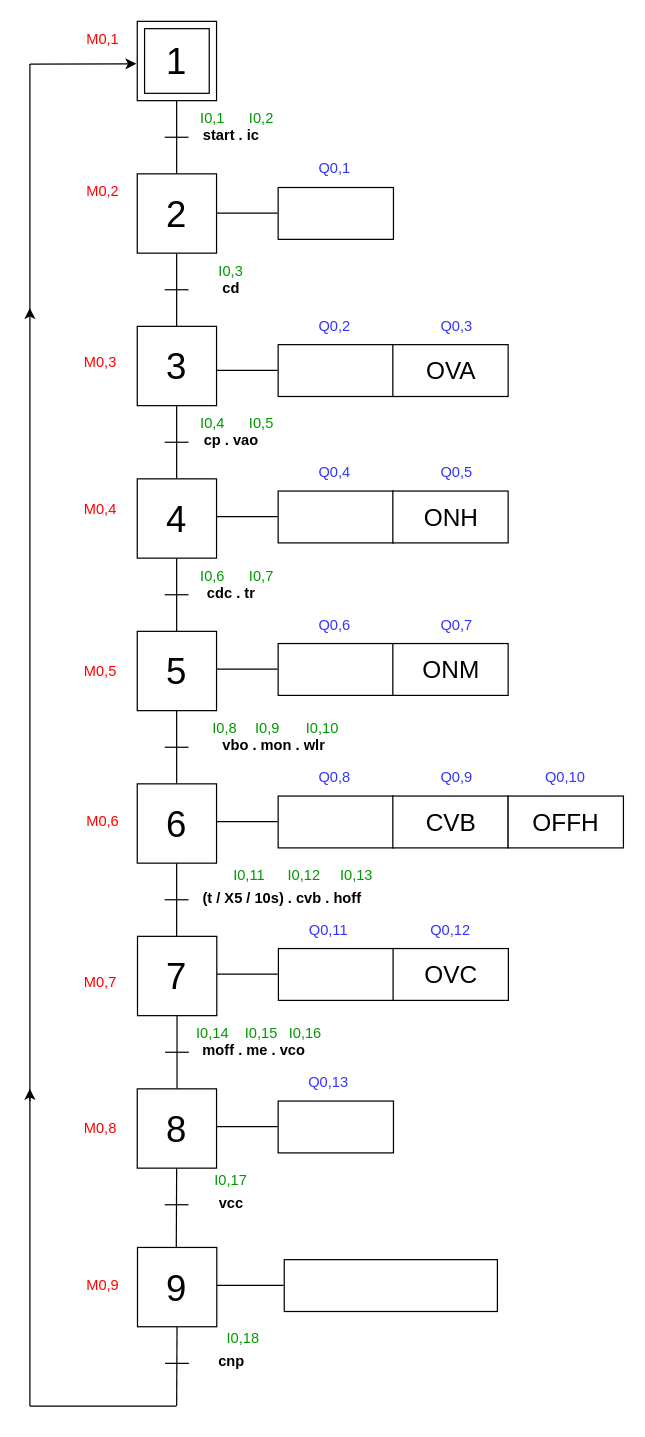
Image size: 645x1437. Some labels were removed from this diagram. The centre of each missing label's shape, as x and y in pixels:
"CCD" belongs at [335,516].
"CVC" belongs at [335,1126].
"DON" belongs at [335,212].
"manual dispense" belongs at [390,1285].
"OCD" belongs at [335,369].
"OFFM" belongs at [335,973].
"OVB" belongs at [335,668].
"TIMER" belongs at [335,821].
